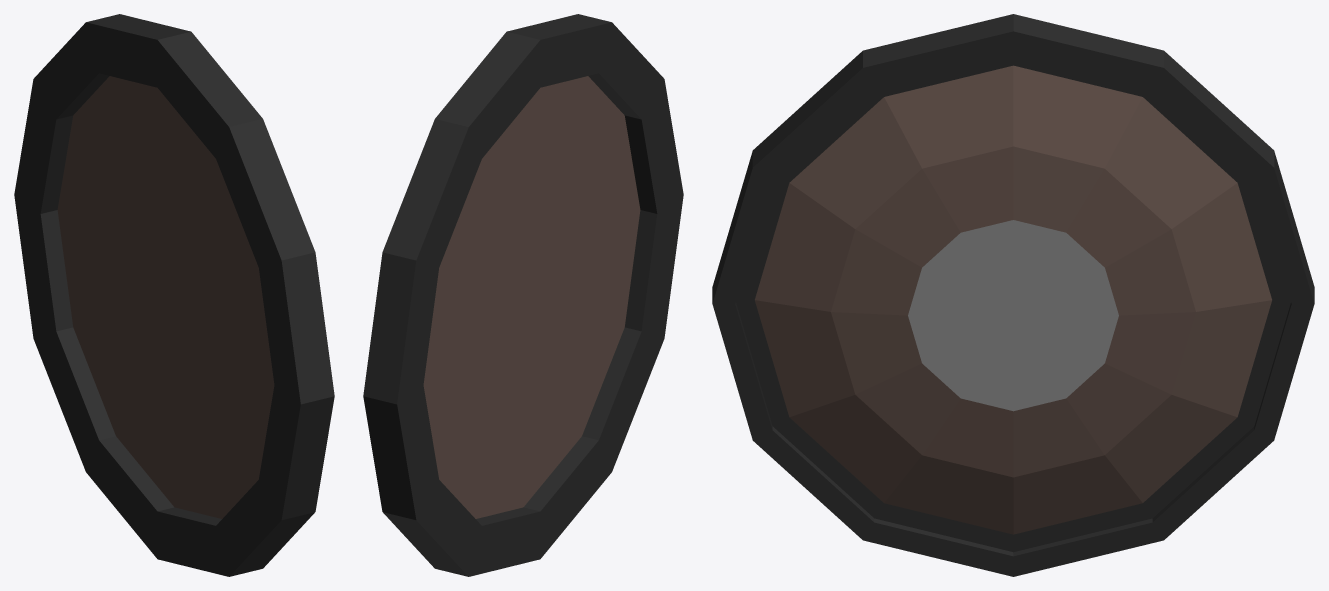
File: shield.glb
The picture shows the model from 3 angles, left to right: view 1: azimuth 30°, elevation 25°; view 2: azimuth 150°, elevation 25°; view 3: azimuth 270°, elevation 25°; orthographic projection. The views are drawn at different scales.
Parts seen in each view (by area): view 1: Cylinder; view 2: Cylinder; view 3: Cylinder.
Boxes of the visible parts, x1,y1,x2,y2 form: Cylinder: [14, 14, 334, 576]; Cylinder: [363, 14, 683, 576]; Cylinder: [712, 14, 1314, 576].
Bounding box in the file's own units: 0.2262 × 2 × 2.
